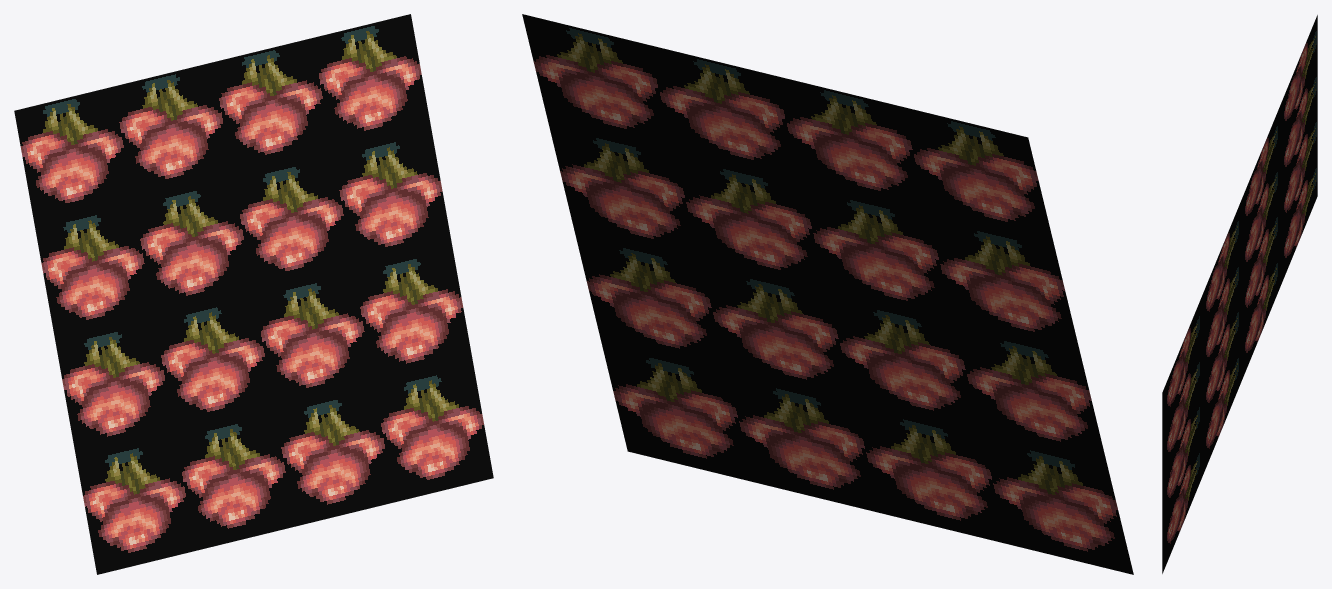
The model's file is 0523kinoko_f03.gltf.
3 views of the same model, side by side, from view 1: azimuth 30°, elevation 25°; view 2: azimuth 150°, elevation 25°; view 3: azimuth 270°, elevation 25° (orthographic). The views are drawn at different scales.
Visible parts, largest first — view 1: 0523kinoko_f03; view 2: 0523kinoko_f03; view 3: 0523kinoko_f03.
Part boxes in pixels (x1,y1,x2,y2): 0523kinoko_f03: (14, 14, 493, 574); 0523kinoko_f03: (522, 14, 1133, 574); 0523kinoko_f03: (1162, 15, 1317, 573).
Size of the model in its own units: 0.7607 by 0.7395 by 0.2751.
Materials: 1 (1 with a texture image).
